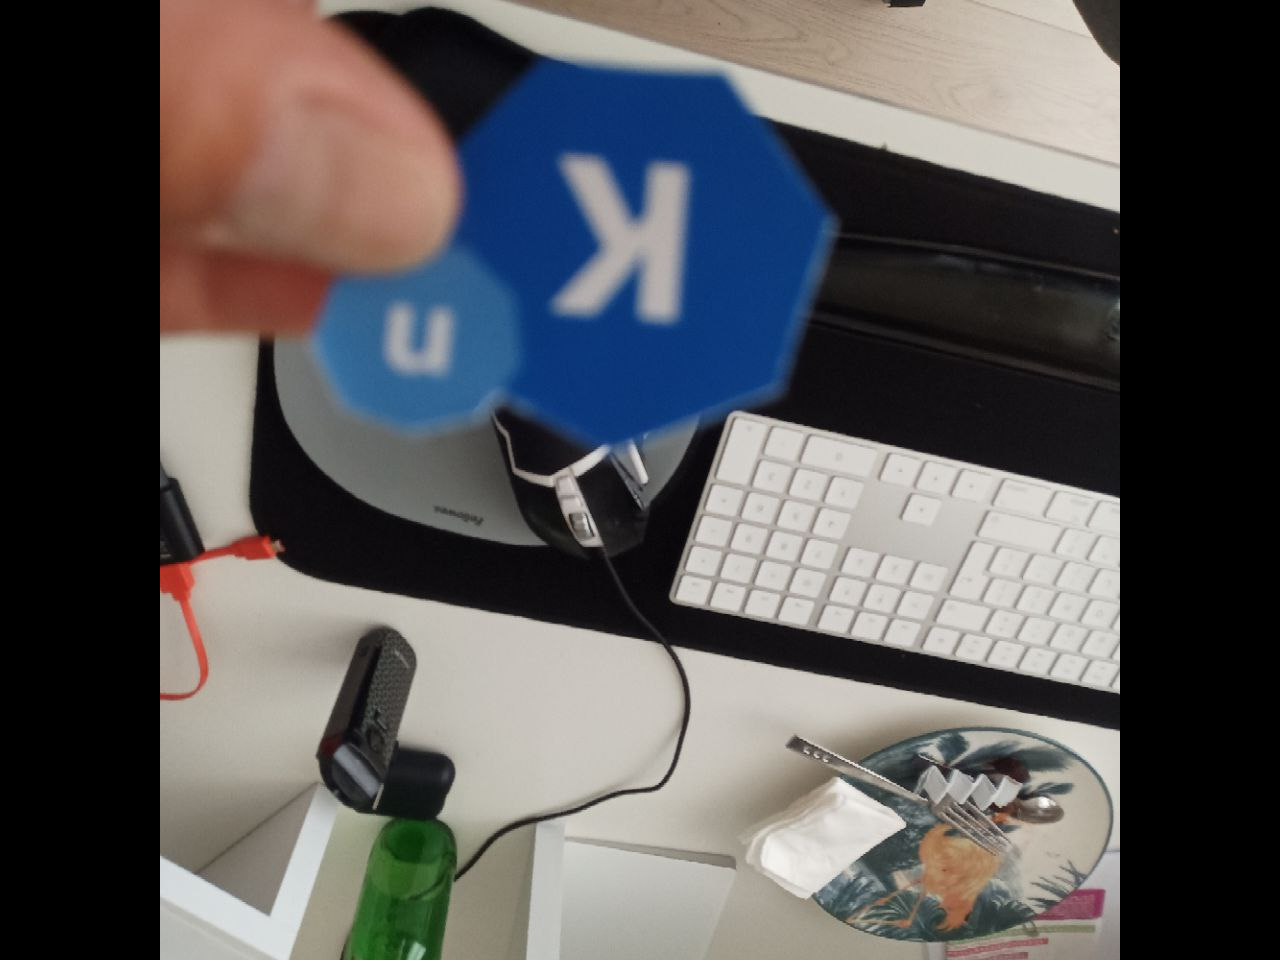knative: (305, 63, 843, 449)
